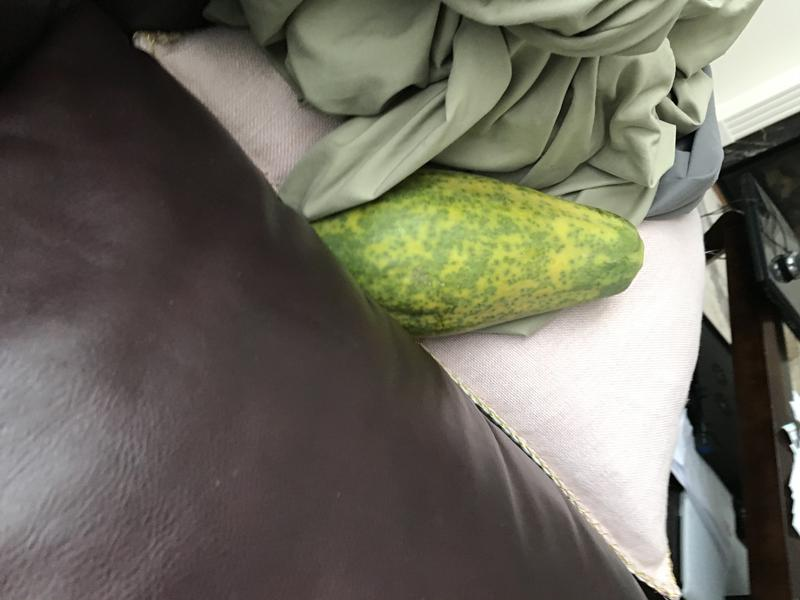papaya: (281, 161, 651, 348)
